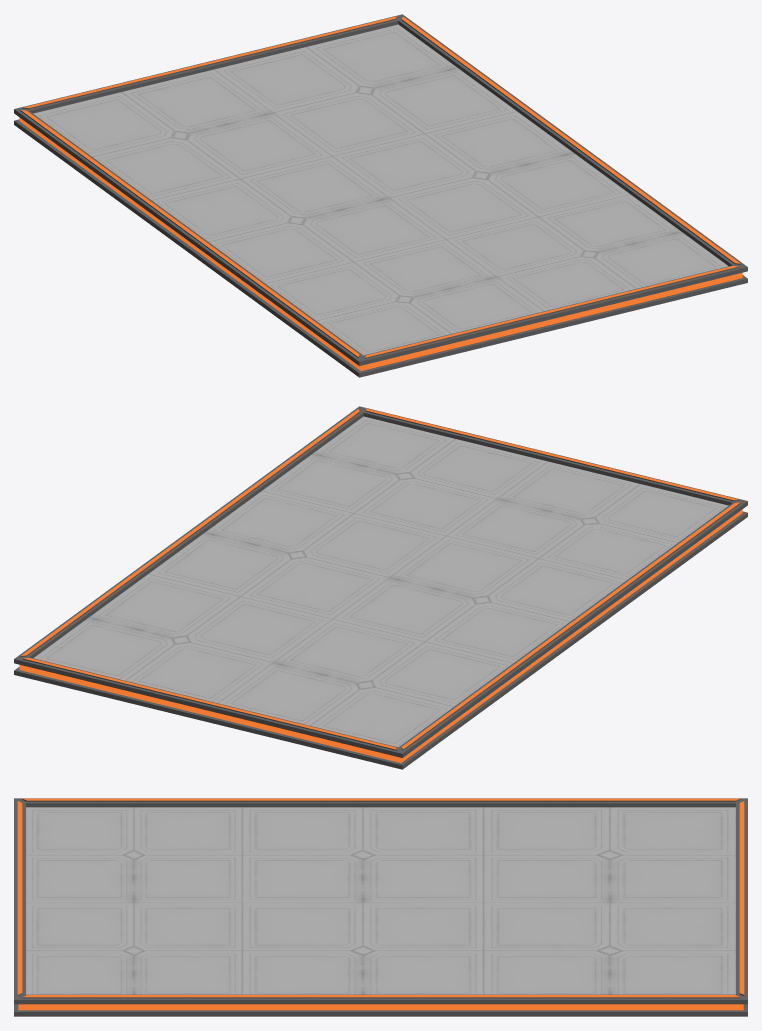
The model's file is Bodenplatte_02.glb.
3 renders of one model, top to bottom at view 1: azimuth 30°, elevation 25°; view 2: azimuth 150°, elevation 25°; view 3: azimuth 270°, elevation 25°, orthographic. The views are drawn at different scales.
Parts seen in each view (by area): view 1: Bodenplatte_02; view 2: Bodenplatte_02; view 3: Bodenplatte_02.
Part boxes in pixels (bbox=[...]): Bodenplatte_02: bbox=[14, 14, 747, 377]; Bodenplatte_02: bbox=[14, 406, 747, 769]; Bodenplatte_02: bbox=[14, 798, 747, 1016].
Size of the model in its own units: 5.05 by 0.2097 by 7.78.
3 materials, 1 textured.
